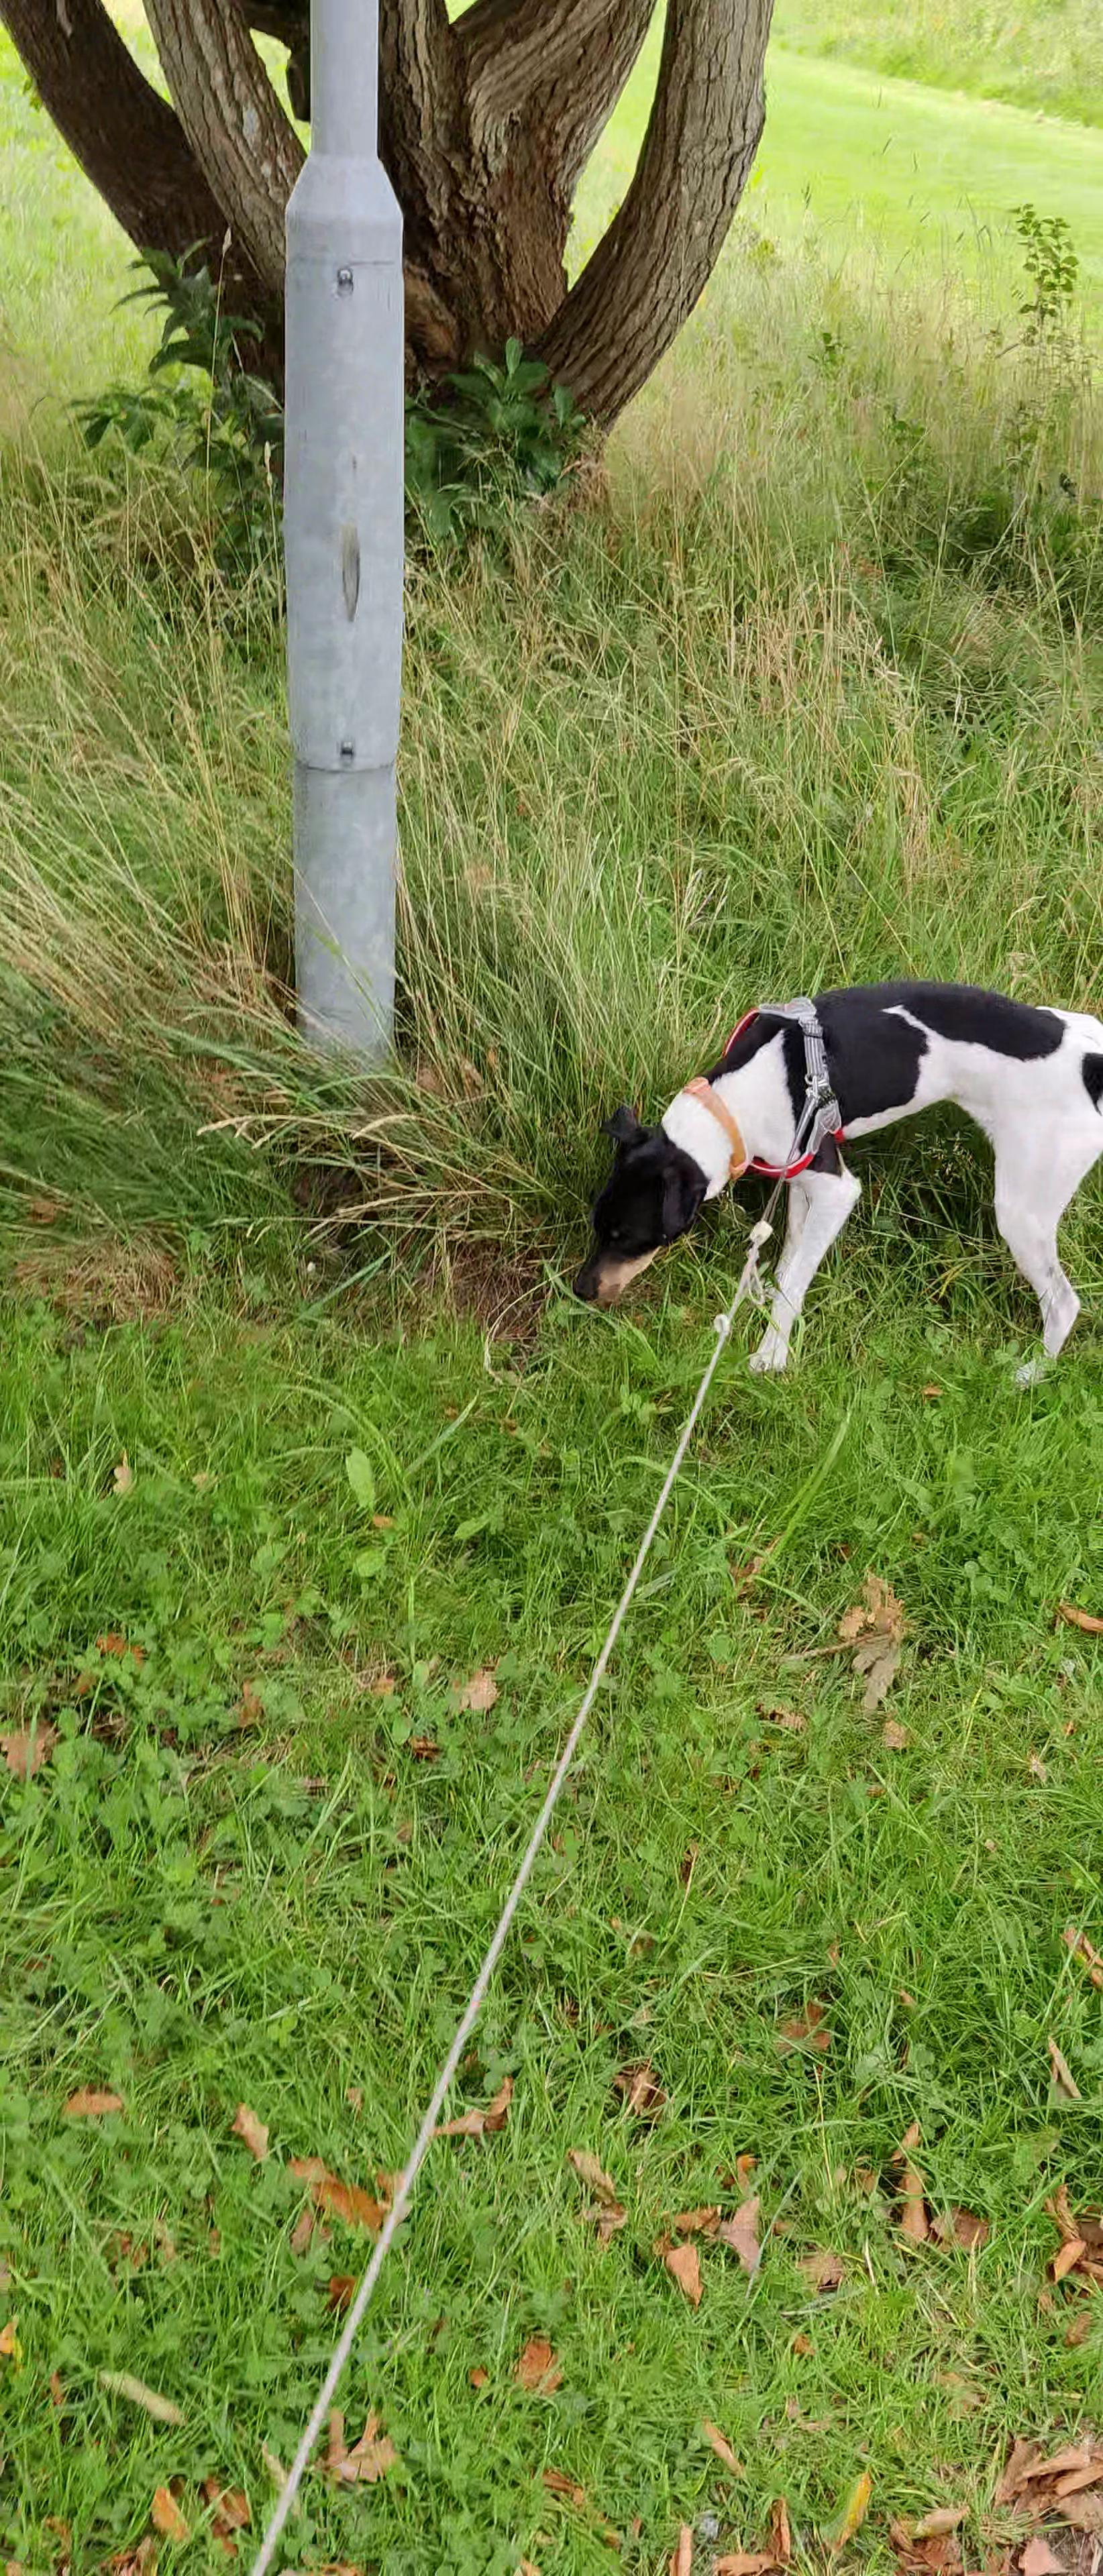Dog: (547, 958, 1103, 1385)
